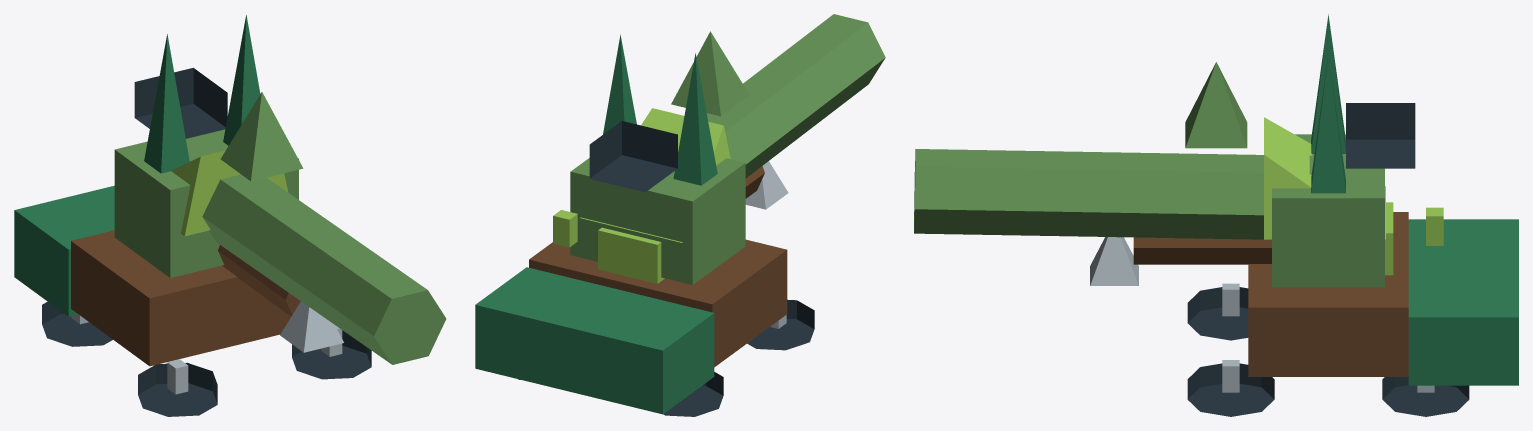
Rendered from heavy-artillery.obj.
3 views of the same model, side by side, from view 1: azimuth 30°, elevation 25°; view 2: azimuth 150°, elevation 25°; view 3: azimuth 270°, elevation 25° (orthographic). The views are drawn at different scales.
Visible parts, largest first — view 1: siege; view 2: siege; view 3: siege.
Part boxes in pixels (x1,y1,x2,y2): siege: (14,15,446,416); siege: (475,14,885,416); siege: (914,14,1518,416).
Bounding box in the file's own units: 1.36 × 1.87 × 3.13.
